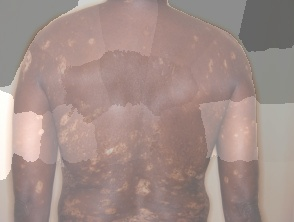vitiligo: (51, 100, 209, 222)
